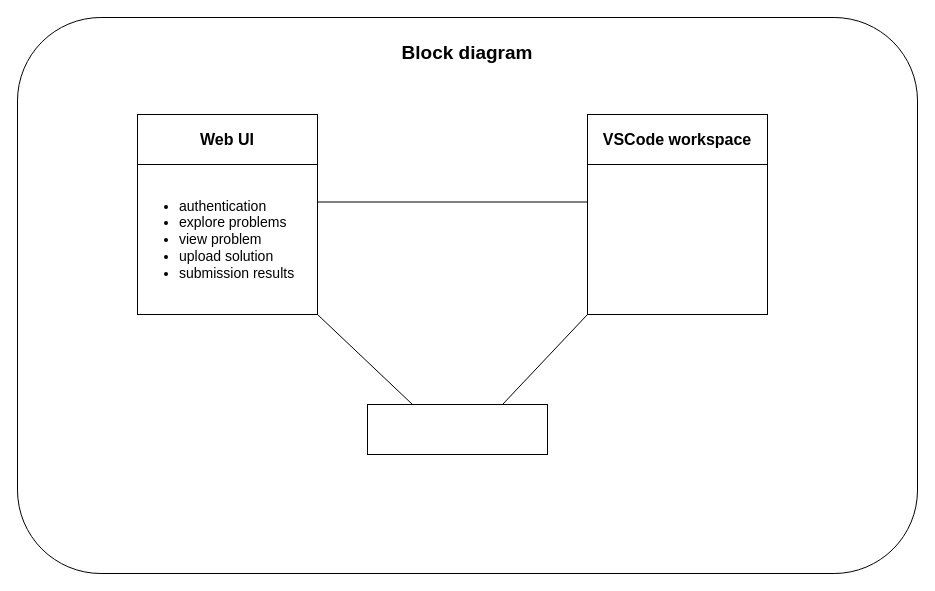
This 935x591 diagram has some shape labels left out. Each missing label, with the centre of its shape:
"Checker" belongs at [457,429].
"personal workspace for each user 50MB of storage pre-installed checker extension" belongs at [677,239].
